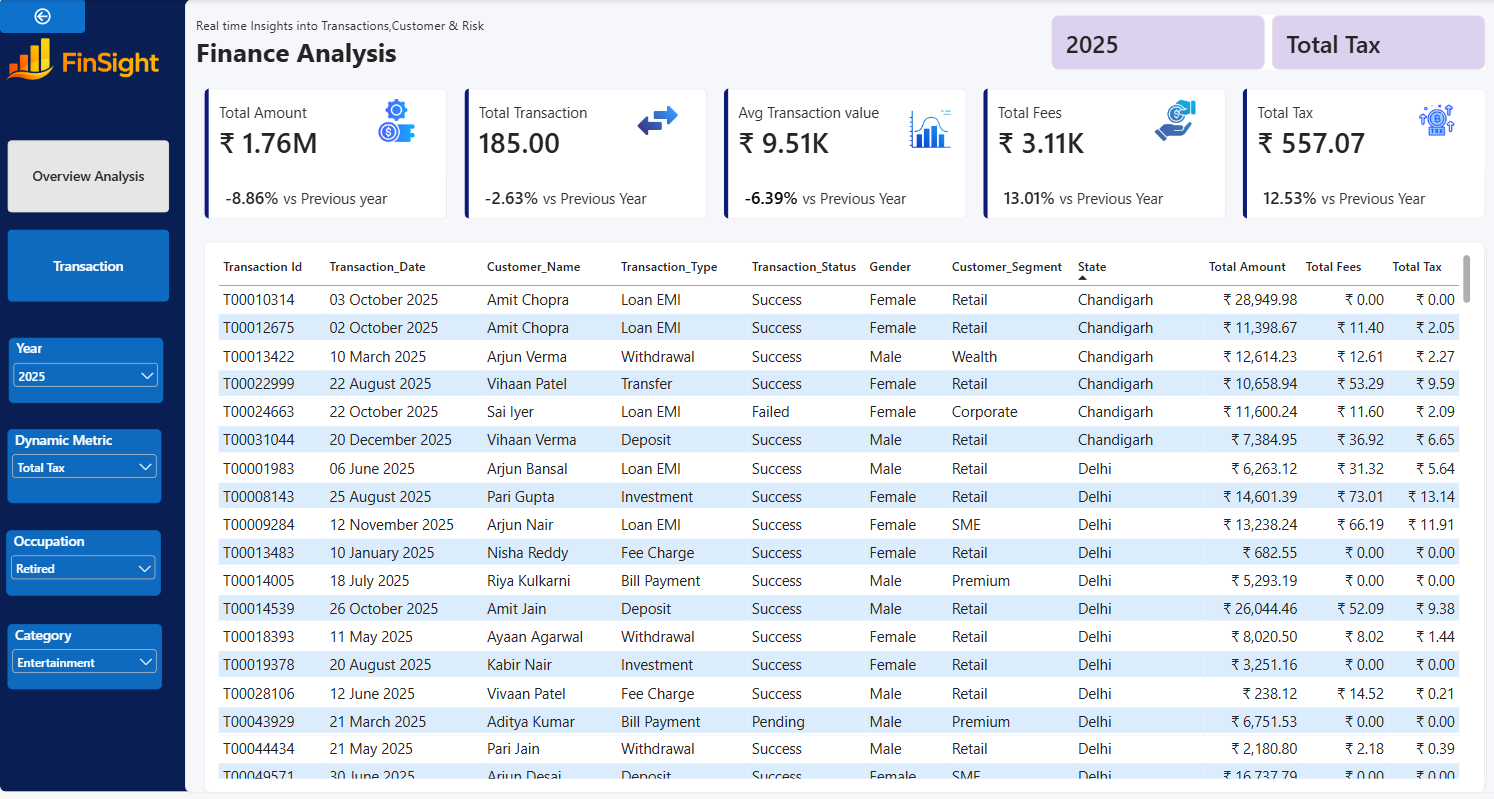

Layout of this report page (visuals, bound fields, positions):
{"tool":"powerbi","page":{"name":"Transaction","canvas":[1800,950],"ordinal":1},"visuals":[{"type":"shape","box":[0,0,230,931.6],"z":0},{"type":"shape","box":[216.7,0,1555.1,933.5],"z":1000},{"type":"image","box":[0,19,198.8,104.2],"z":2000},{"type":"cardVisual","fields":{"Data":["finance_transactions.Dashboard Title"]},"box":[214.2,0,424.5,104.2],"z":3000},{"type":"cardVisual","fields":{"Data":["finance_transactions.Total Amount","finance_transactions.Total Transaction","finance_transactions.Avg Transaction value","finance_transactions.Total Fees","finance_transactions.Total Tax"]},"box":[239.5,104.6,1507.6,155.9],"z":4000},{"type":"image","box":[441.1,117.9,50,50],"z":6000},{"type":"image","box":[747.2,117.9,50,50],"z":7000},{"type":"image","box":[1355.5,117.9,50,50],"z":8000},{"type":"image","box":[1654,117.9,68.4,49.4],"z":10000},{"type":"shape","box":[239.5,285.2,1507.6,648.3],"z":12000},{"type":"cardVisual","fields":{"Data":["finance_transactions.Selected Year","finance_transactions.Selected Dynamic Measure"]},"box":[1235.8,19.4,510.2,64],"z":14000},{"type":"image","box":[1100.8,117.9,1.9,60.8],"z":25000},{"type":"image","box":[1068.4,127.4,50,50],"z":26000},{"type":"tableEx","fields":{"Values":["finance_transactions.transaction_id","finance_transactions.transaction_date","customers.Customer_name","finance_transactions.transaction_type","finance_transactions.transaction_status","customers.gender","customers.customer_segment","customers.state","finance_transactions.Total Amount","finance_transactions.Total Fees","finance_transactions.Total Tax"]},"box":[239.5,285.2,1505.7,648.3],"z":26001},{"type":"actionButton","box":[0,0,100,40],"z":26002},{"type":"pageNavigator","box":[9.5,165.4,190.1,190.1],"z":26003},{"type":"slicer","fields":{"Values":["Calendar Table.Year"]},"box":[9.6,397.5,181.4,77.2],"z":26004},{"type":"slicer","fields":{"Values":["Dynamic Metric.Dynamic Metric"]},"box":[9.5,505.7,180.6,87.5],"z":26005},{"type":"slicer","fields":{"Values":["customers.occupation"]},"box":[7.6,623.6,181.4,77.2],"z":26006},{"type":"slicer","fields":{"Values":["finance_transactions.merchant_category"]},"box":[9.5,733.8,181.4,77.2],"z":26007}]}

Visuals, with their boxes on the page's 1800x950 design canvas (x1, y1, x2, y2). These are canvas units, not pixel positions in the 1494x799 screenshot, which may show the page scaled, cropped or inside an application window:
shape: Rect(0, 0, 230, 932)
shape: Rect(217, 0, 1772, 934)
image: Rect(0, 19, 199, 123)
cardVisual - finance_transactions.Dashboard Title: Rect(214, 0, 639, 104)
cardVisual - finance_transactions.Total Amount x finance_transactions.Total Transaction: Rect(240, 105, 1747, 260)
image: Rect(441, 118, 491, 168)
image: Rect(747, 118, 797, 168)
image: Rect(1356, 118, 1406, 168)
image: Rect(1654, 118, 1722, 167)
shape: Rect(240, 285, 1747, 934)
cardVisual - finance_transactions.Selected Year x finance_transactions.Selected Dynamic Measure: Rect(1236, 19, 1746, 83)
image: Rect(1101, 118, 1103, 179)
image: Rect(1068, 127, 1118, 177)
tableEx - finance_transactions.transaction_id x finance_transactions.transaction_date: Rect(240, 285, 1745, 934)
actionButton: Rect(0, 0, 100, 40)
pageNavigator: Rect(10, 165, 200, 356)
slicer - Calendar Table.Year: Rect(10, 398, 191, 475)
slicer - Dynamic Metric.Dynamic Metric: Rect(10, 506, 190, 593)
slicer - customers.occupation: Rect(8, 624, 189, 701)
slicer - finance_transactions.merchant_category: Rect(10, 734, 191, 811)
